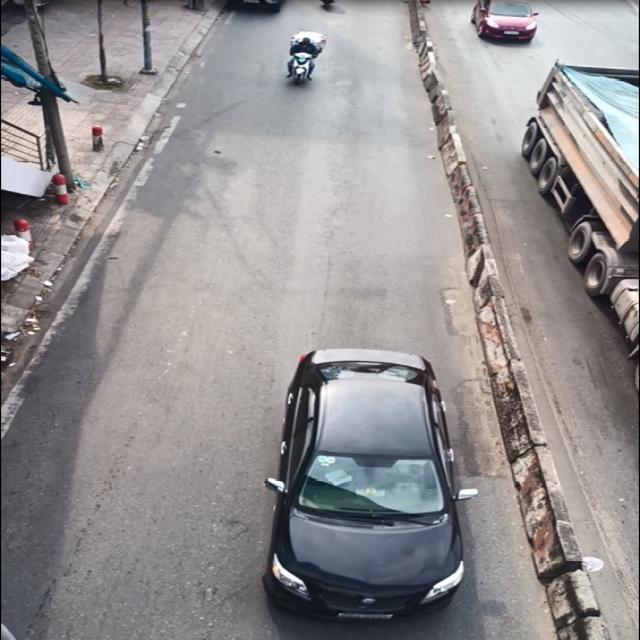car: (232, 343, 480, 640)
motor: (272, 18, 328, 91)
